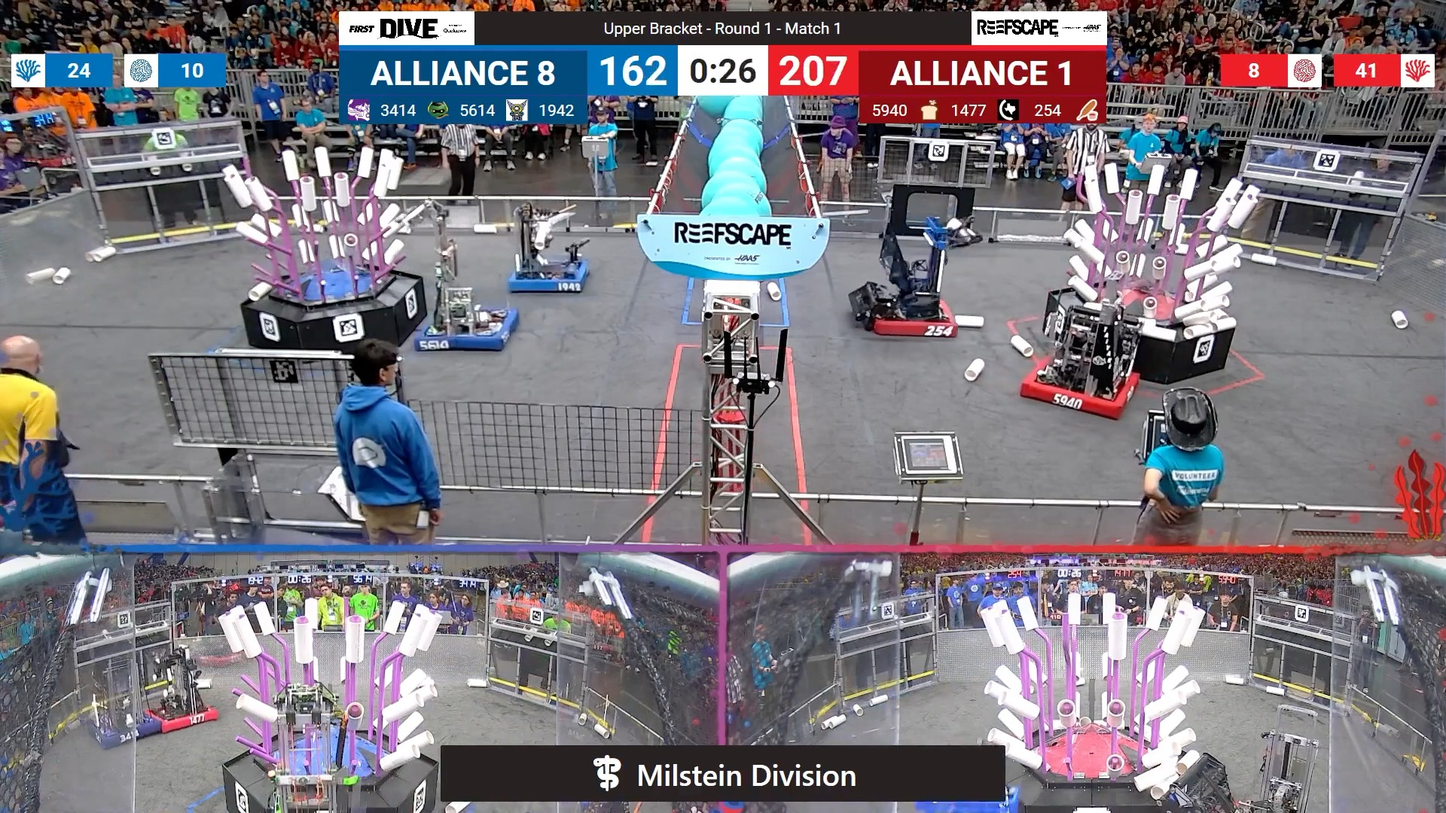bumpers: (1011, 351, 1150, 421), (851, 289, 964, 348), (415, 302, 523, 360), (505, 254, 601, 299), (138, 698, 228, 737), (88, 714, 171, 750)
